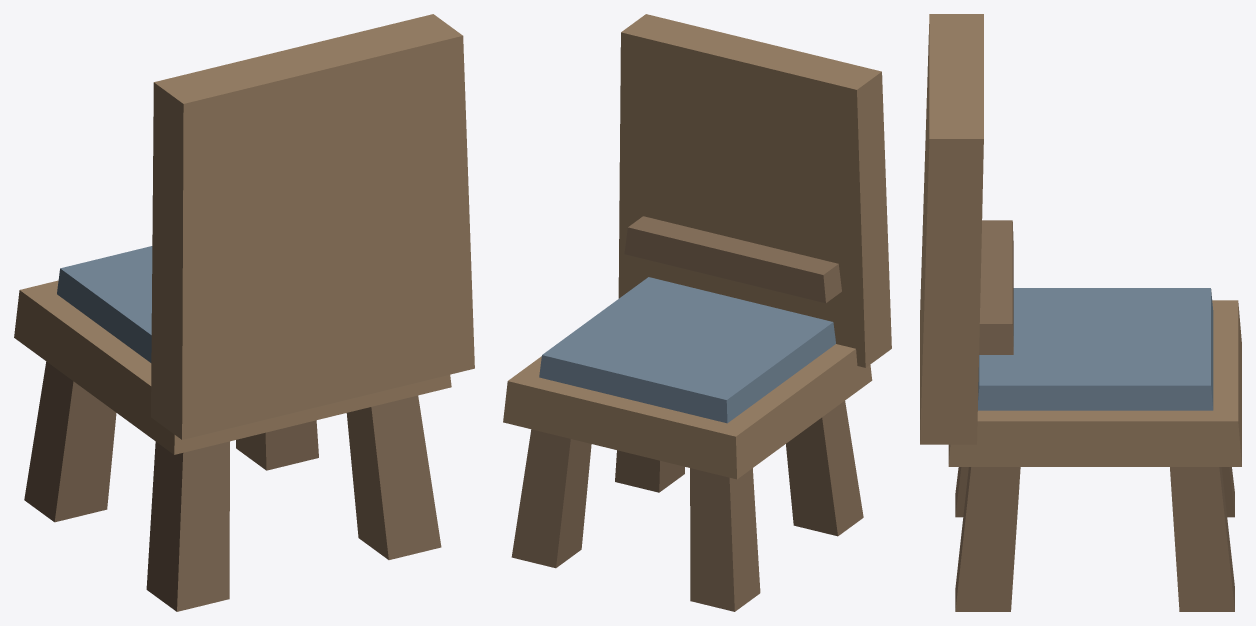
Rendered from chair_with_blue_cushion.glb.
3 renders of one model, left to right at view 1: azimuth 30°, elevation 25°; view 2: azimuth 150°, elevation 25°; view 3: azimuth 270°, elevation 25°, orthographic. The views are drawn at different scales.
Visible parts, largest first — view 1: part_5, part_4, part_1, part_3, part_0, part_7, part_2; view 2: part_5, part_7, part_4, part_6, part_0, part_2, part_1, part_3; view 3: part_7, part_5, part_4, part_3, part_2, part_6, part_1, part_0.
Part boxes in pixels (x1,y1,x2,y2): part_5: (151,14,474,439); part_4: (14,280,451,454); part_1: (146,441,229,611); part_3: (346,395,441,559); part_0: (24,361,116,522); part_7: (57,246,152,362); part_2: (236,420,318,470); part_5: (618,14,891,367); part_7: (539,277,835,423); part_4: (503,344,872,479); part_6: (624,216,841,303); part_0: (690,468,760,611); part_2: (511,429,591,568); part_1: (786,401,863,536); part_3: (615,450,684,492); part_7: (978,288,1213,410); part_5: (920,14,983,444); part_4: (948,300,1241,466); part_3: (955,467,1020,611); part_2: (1170,467,1234,611); part_6: (979,220,1013,354); part_1: (955,467,968,517); part_0: (1221,467,1234,517).
Size of the model in its own units: 0.76 by 1.29 by 0.79.
